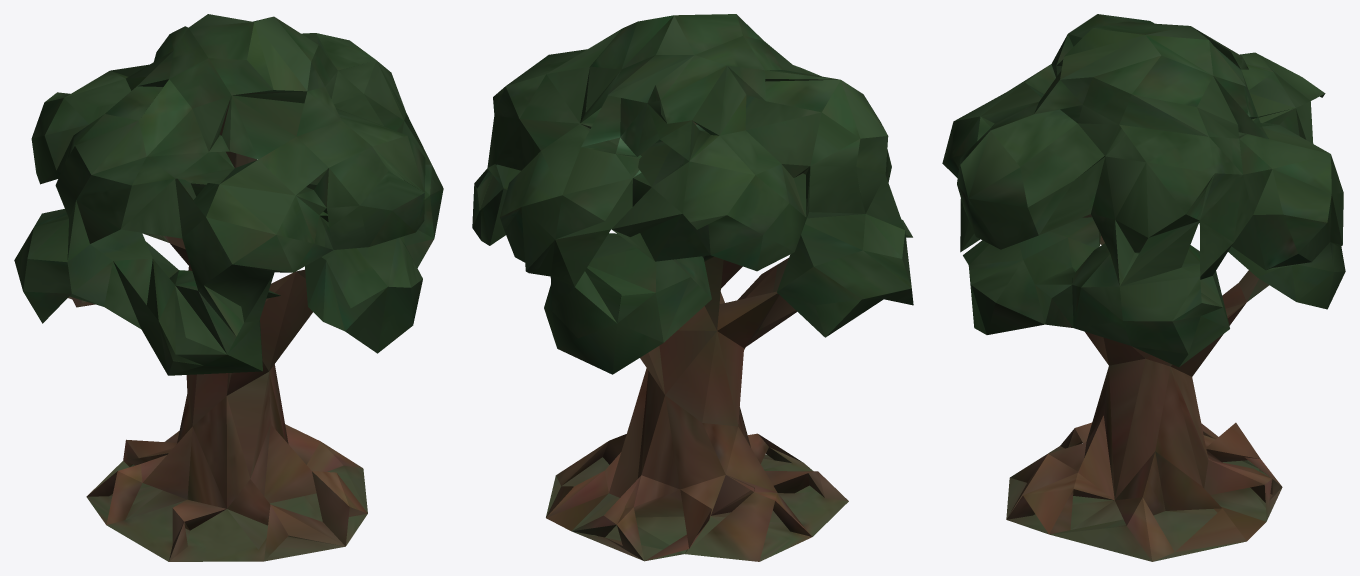
File: bg_field_leaf_1_lod0.glb
3 renders of one model, left to right at view 1: azimuth 30°, elevation 25°; view 2: azimuth 150°, elevation 25°; view 3: azimuth 270°, elevation 25°, orthographic. The views are drawn at different scales.
Parts seen in each view (by area): view 1: sway, body; view 2: sway, body; view 3: sway, body.
Boxes of the visible parts, x1,y1,x2,y2 form: sway: (14, 14, 443, 375); body: (68, 101, 367, 561); sway: (472, 14, 913, 374); body: (546, 141, 848, 561); sway: (942, 14, 1345, 367); body: (1006, 236, 1282, 561).
Size of the model in its own units: 6.28 by 6.92 by 5.33.
1 material, 1 textured.
